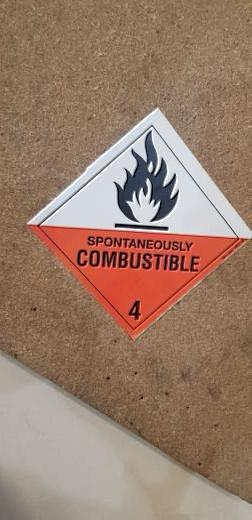spontaneously-combustible: (29, 105, 252, 341)
